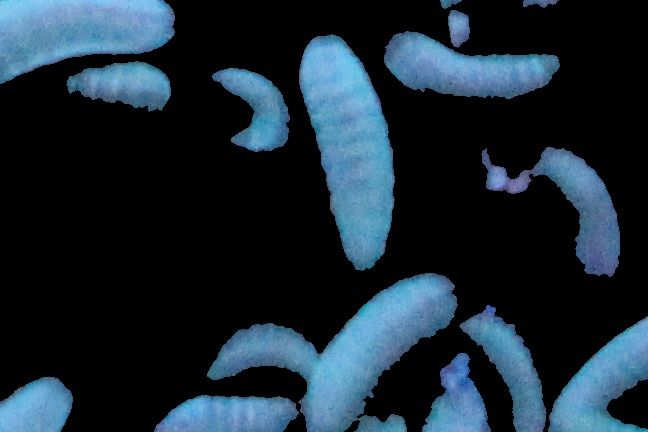larvae: (286, 22, 403, 286), (307, 273, 455, 432), (355, 9, 576, 112), (1, 1, 181, 117), (530, 148, 637, 291), (551, 313, 648, 422), (467, 301, 546, 432), (199, 53, 298, 153), (202, 316, 314, 382), (159, 387, 295, 432), (53, 65, 176, 111)
